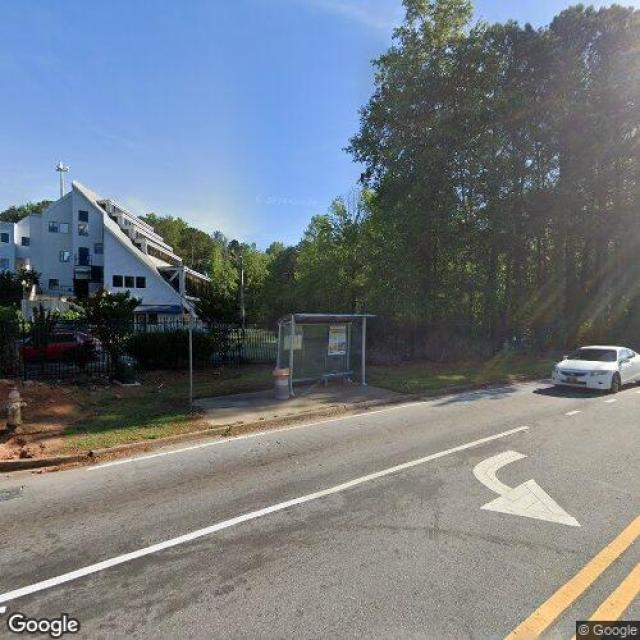seating: (320, 372, 354, 388)
shelter: (275, 312, 378, 396)
trash_can: (274, 370, 290, 400)
